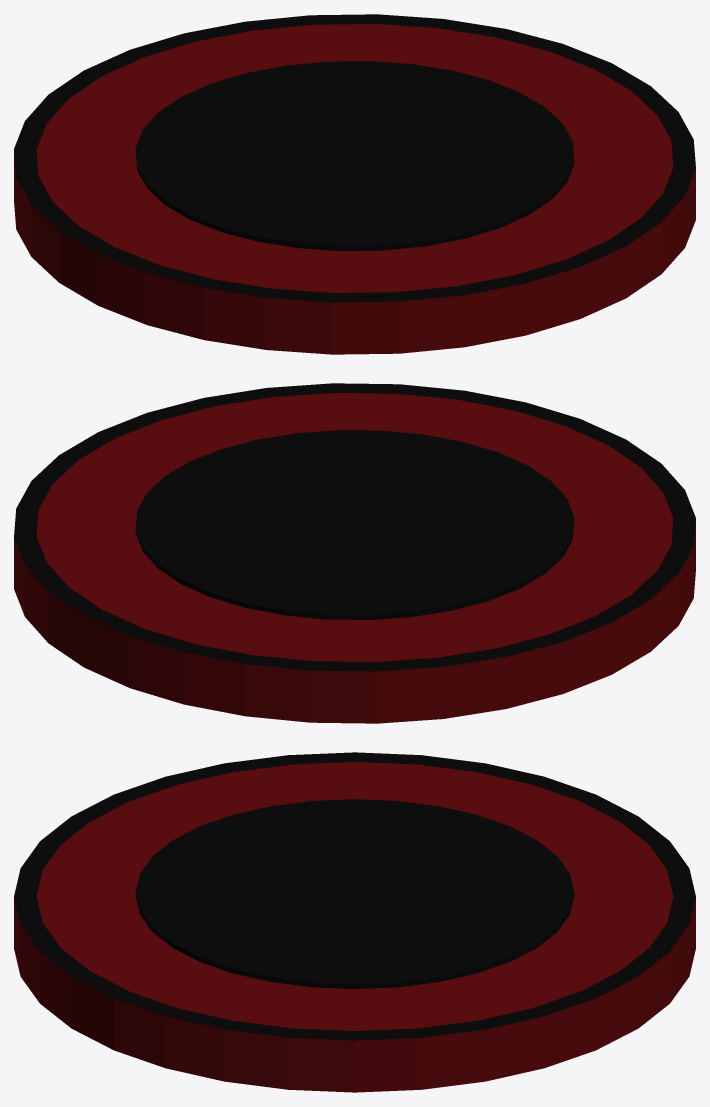
The model's file is Dart.fbx.
The picture shows the model from 3 angles, top to bottom: view 1: azimuth 30°, elevation 25°; view 2: azimuth 150°, elevation 25°; view 3: azimuth 270°, elevation 25°; orthographic projection.
Parts seen in each view (by area): view 1: Cube; view 2: Cube; view 3: Cube.
Part boxes in pixels (x1,y1,x2,y2): Cube: (14, 14, 695, 354); Cube: (14, 383, 695, 723); Cube: (14, 752, 695, 1092).
Size of the model in its own units: 264 by 26.21 by 264.
